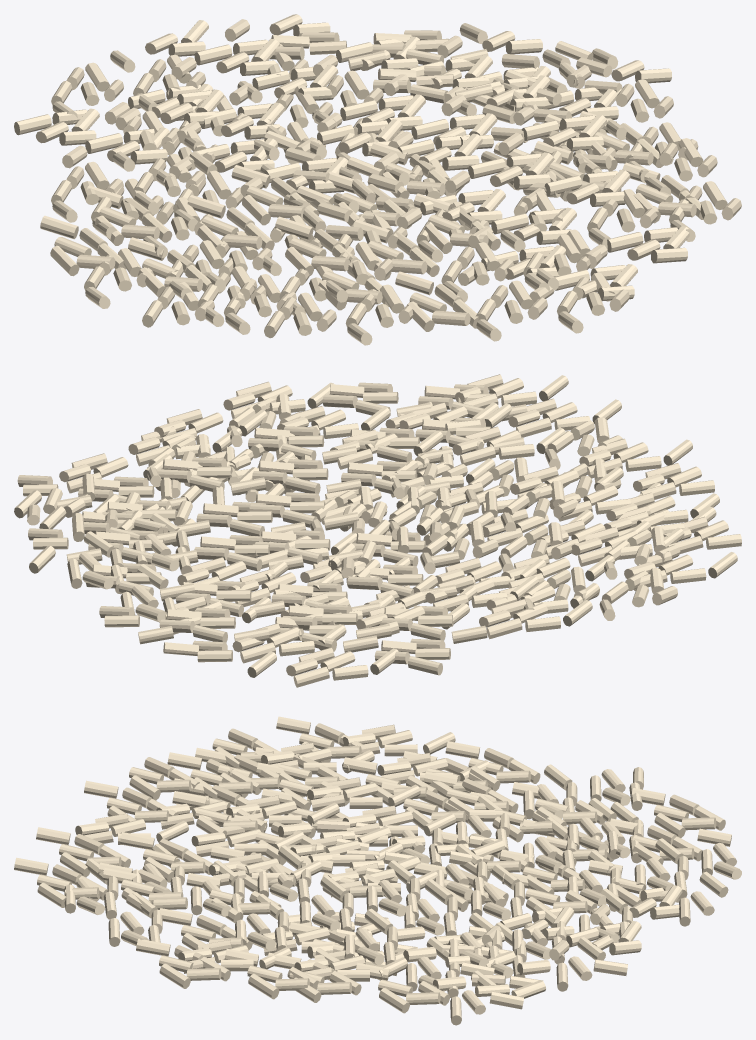
File: queso.glb
The picture shows the model from 3 angles, top to bottom: view 1: azimuth 30°, elevation 25°; view 2: azimuth 150°, elevation 25°; view 3: azimuth 270°, elevation 25°; orthographic projection. The views are drawn at different scales.
Visible parts, largest first — view 1: queso_tiras; view 2: queso_tiras; view 3: queso_tiras.
Boxes of the visible parts, x1,y1,x2,y2 form: queso_tiras: [14, 14, 741, 345]; queso_tiras: [14, 374, 741, 687]; queso_tiras: [14, 716, 741, 1025].
Bounding box in the file's own units: 1.78 × 0.0696 × 1.86.
